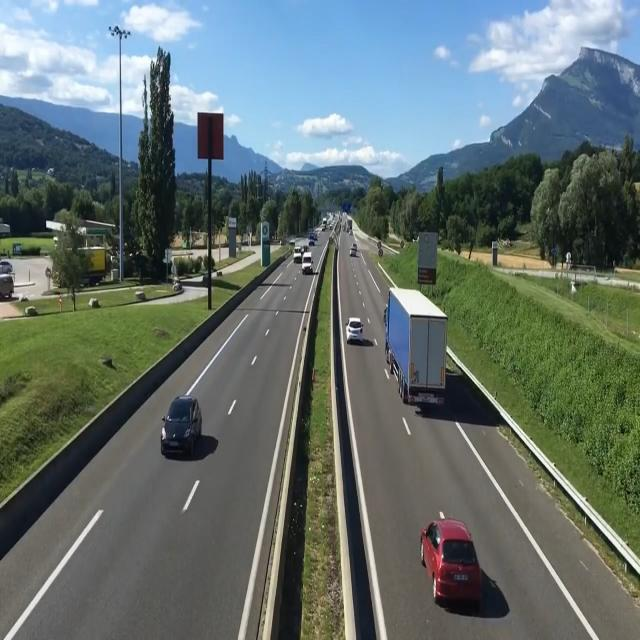car: (422, 520, 495, 622), (162, 395, 207, 461), (297, 239, 317, 280), (347, 315, 369, 346)
truck: (381, 284, 452, 414)
